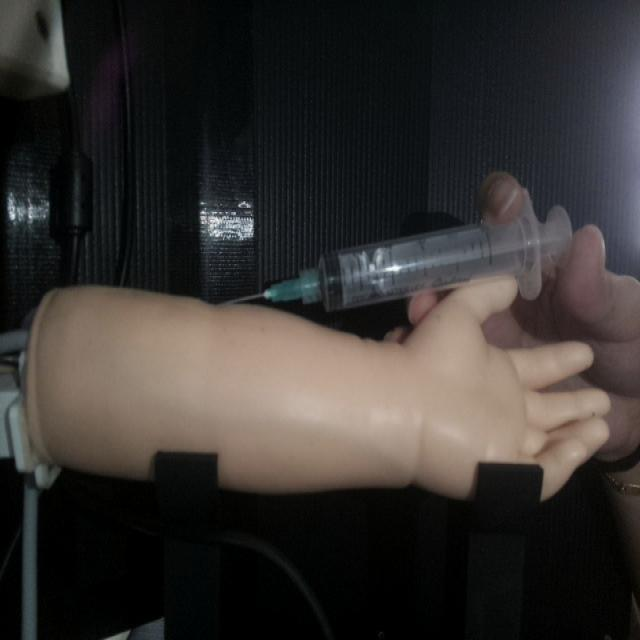Below 15 degrees: (220, 198, 574, 314)
